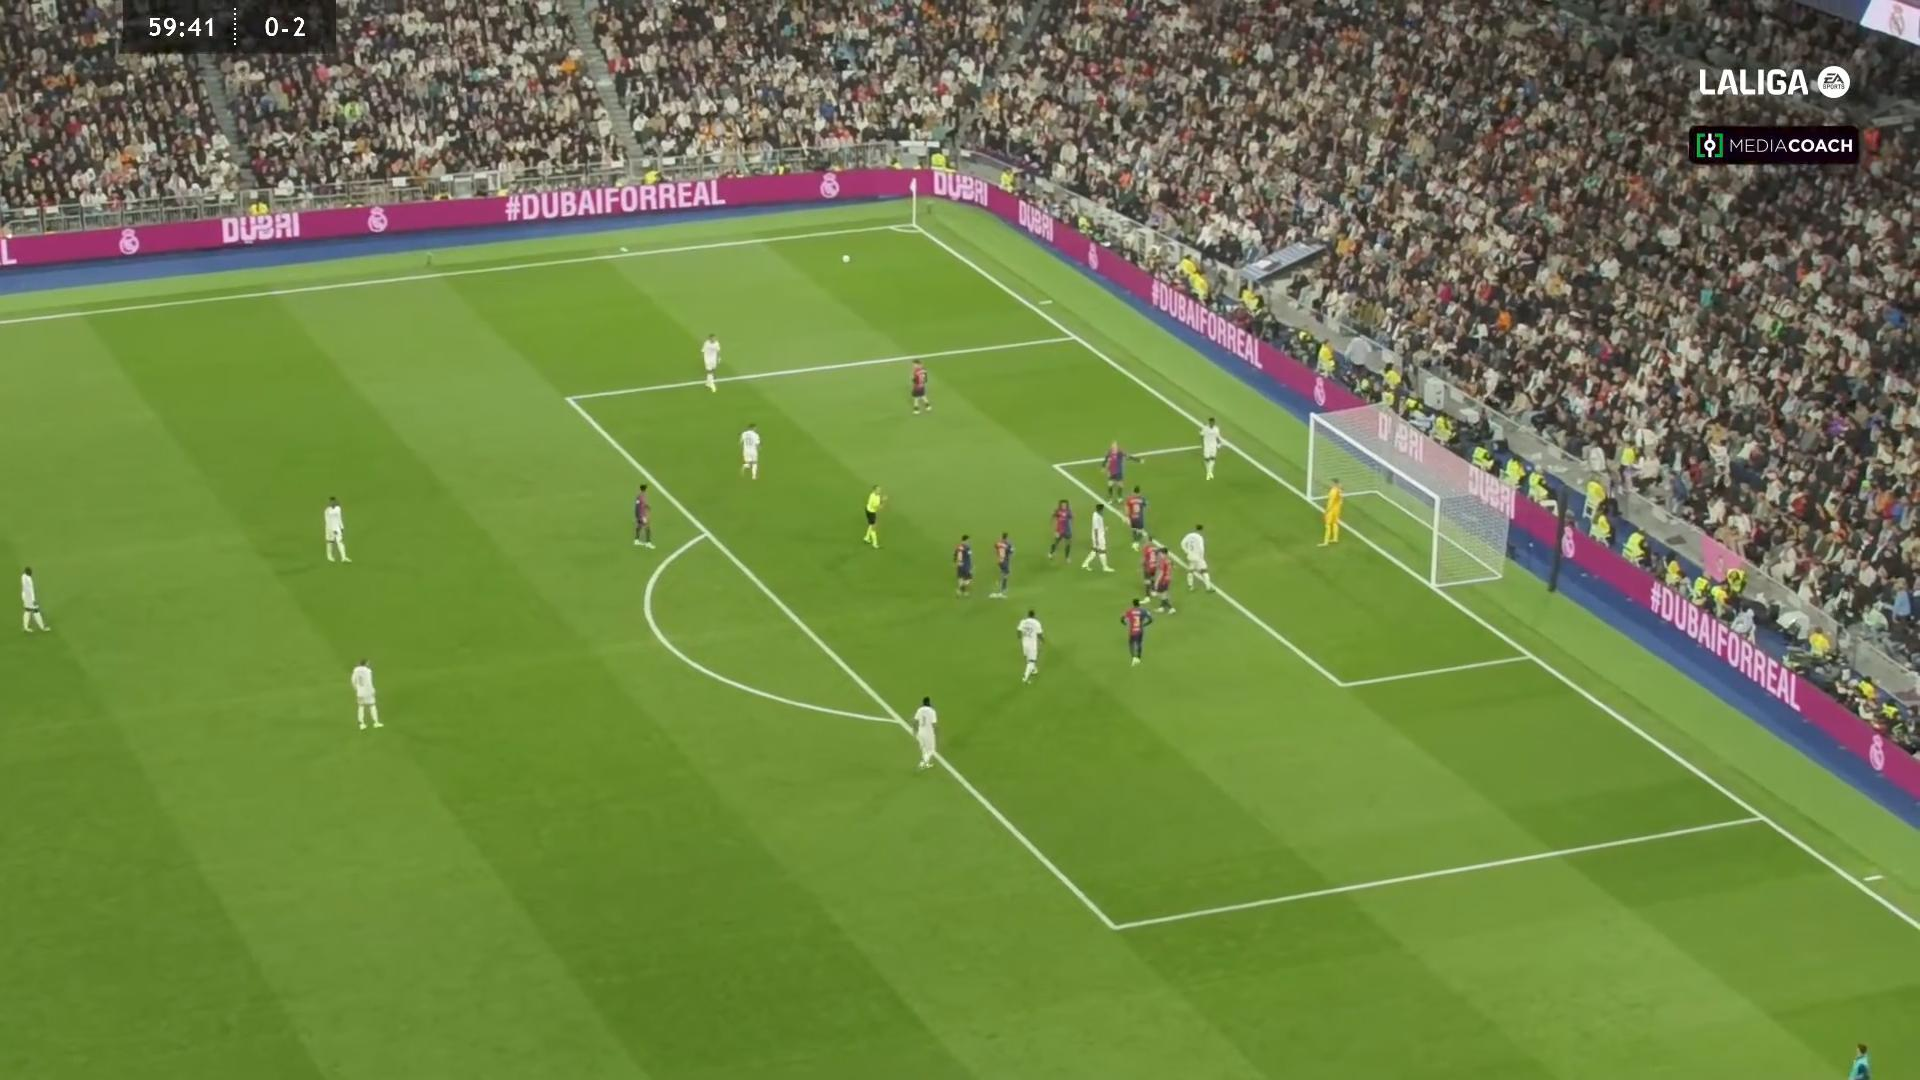ball: (842, 254, 850, 263)
goalkeeper: (1317, 477, 1343, 546)
player: (350, 657, 384, 730), (1080, 503, 1114, 574), (1015, 607, 1045, 684), (1180, 523, 1213, 592), (19, 565, 50, 632), (911, 695, 938, 769), (322, 495, 351, 563), (629, 482, 657, 550), (1120, 600, 1148, 665), (988, 531, 1014, 599), (1046, 498, 1073, 563), (1197, 415, 1222, 481), (1103, 440, 1128, 505), (1141, 534, 1162, 605), (1156, 546, 1177, 616), (1126, 487, 1147, 551), (952, 533, 973, 596), (739, 423, 762, 480), (700, 332, 721, 393), (912, 359, 931, 415)
referee: (861, 483, 883, 548)
